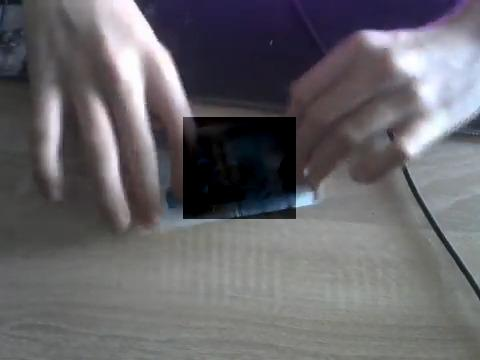20leva: (183, 117, 296, 219)
